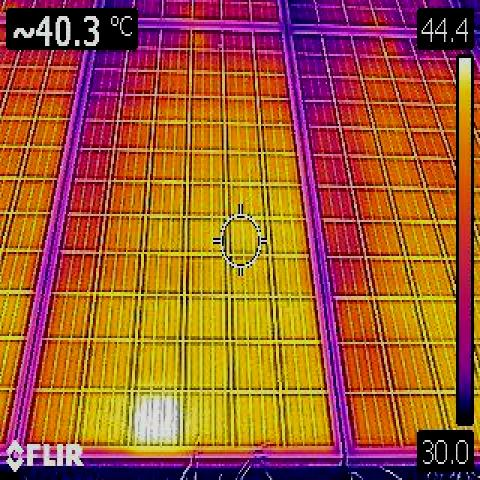fault: (130, 391, 182, 444)
